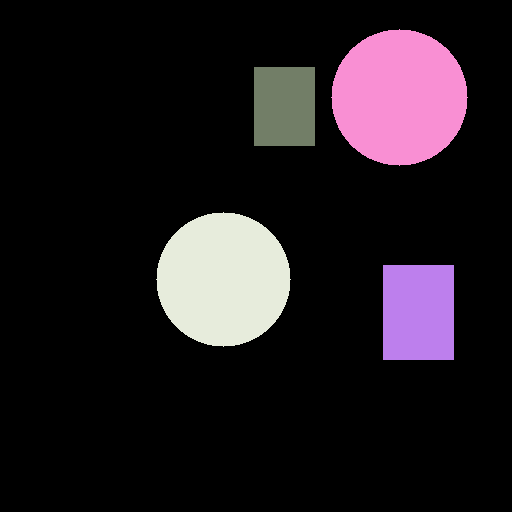circle: (331, 29, 467, 165), (156, 212, 290, 346)
rectangle: (383, 265, 453, 359), (254, 67, 314, 145)
